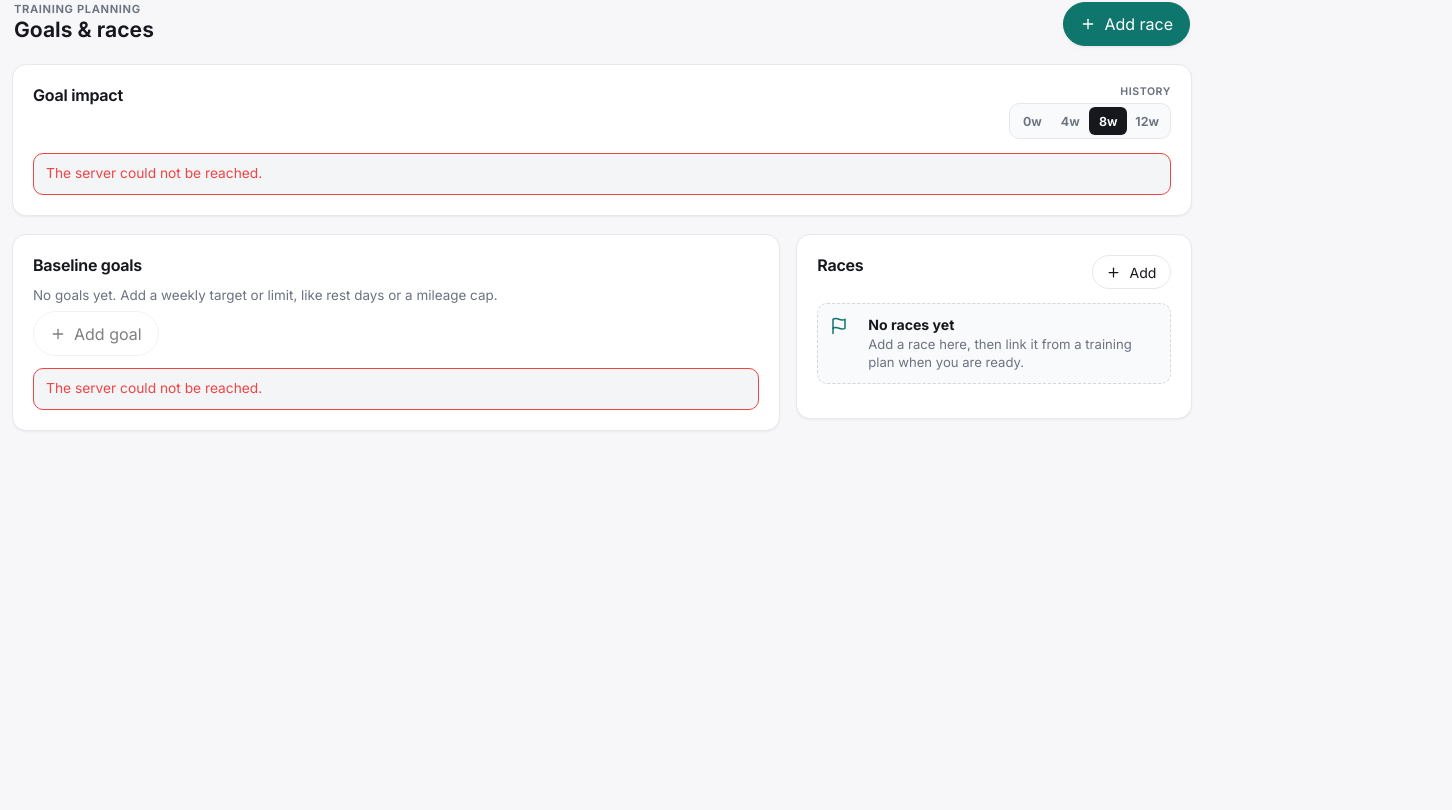
Scenario: GoalsView race management › creates a race without leaving Goals & Races
The image size is (1452, 810).
Expected: the text "No races yet" is shown, [868, 316, 954, 333]
Click the button "Add race": (1127, 24) [1063, 2, 1190, 46]
(page scrolled)
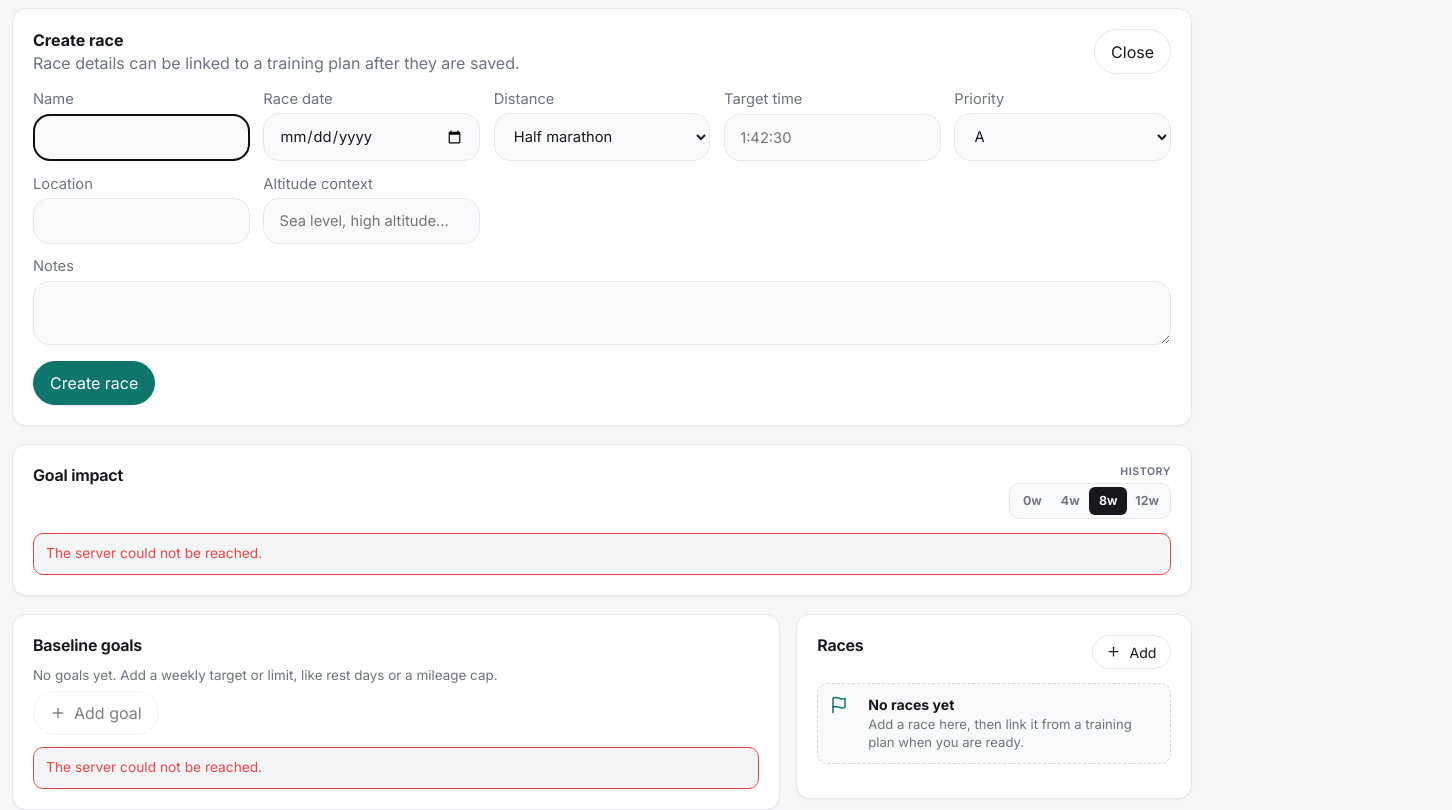
Expected: the button "Create race" is shown, [33, 360, 155, 405]
Expected: the date field labelled "Race date" is empty, [263, 113, 480, 161]
In the field labelled "Name": (141, 138) [33, 114, 250, 161], type "Boulder Half"
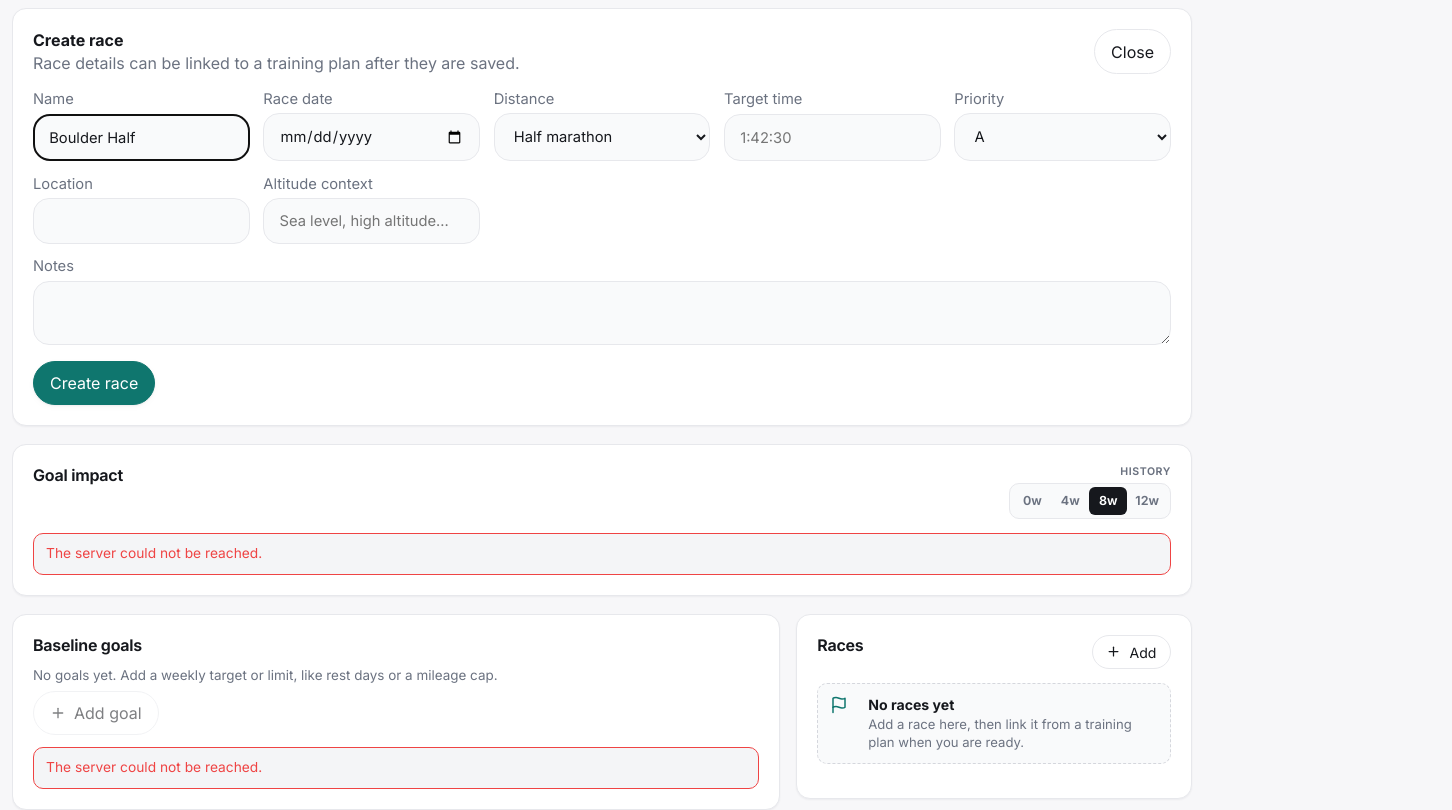
In the date field labelled "Race date": (372, 137) [263, 113, 480, 161], type "2026-10-04"
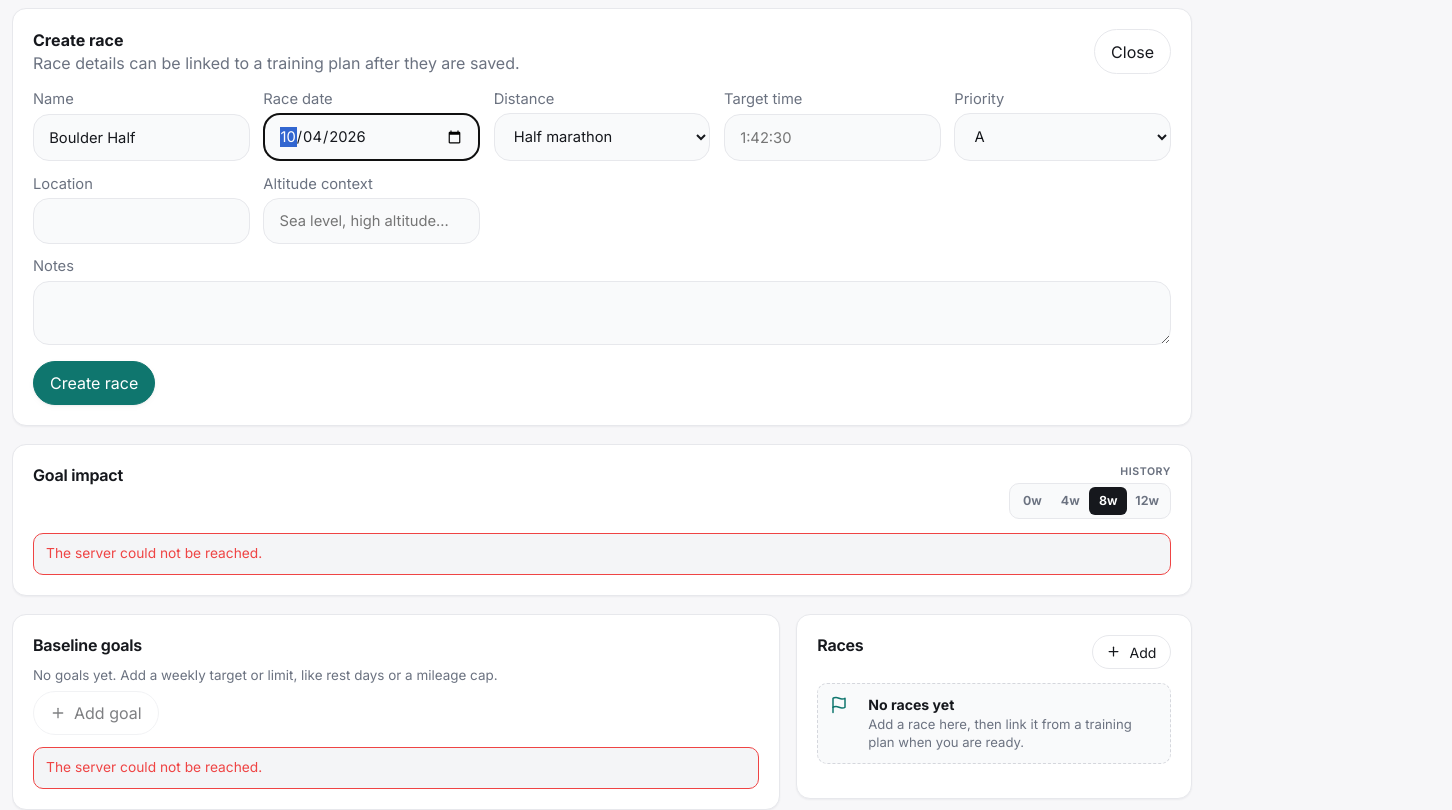
In the field labelled "Target time": (832, 138) [724, 114, 941, 161], type "1:40:00"
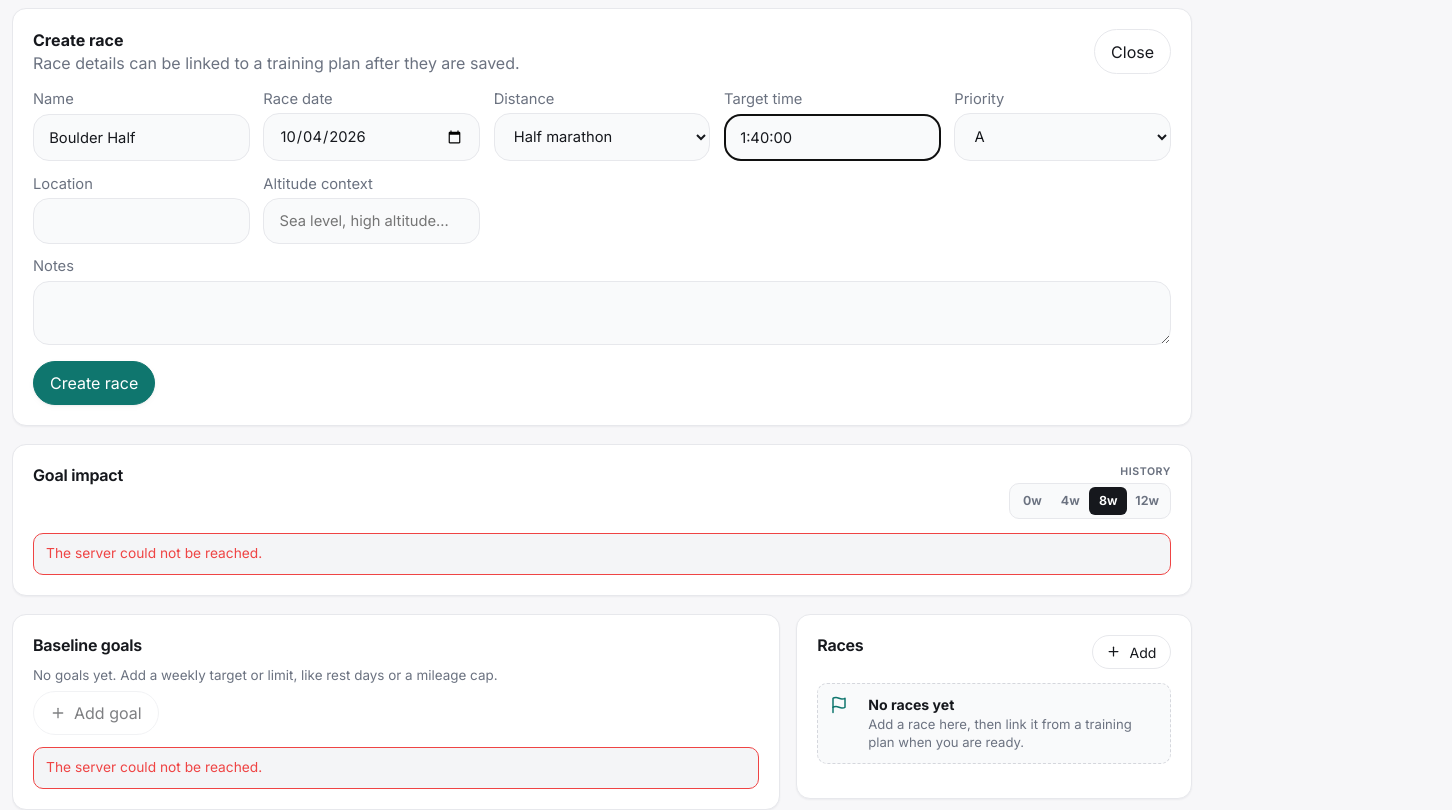
Click the button "Create race": (94, 383) [33, 360, 155, 405]
(page scrolled)
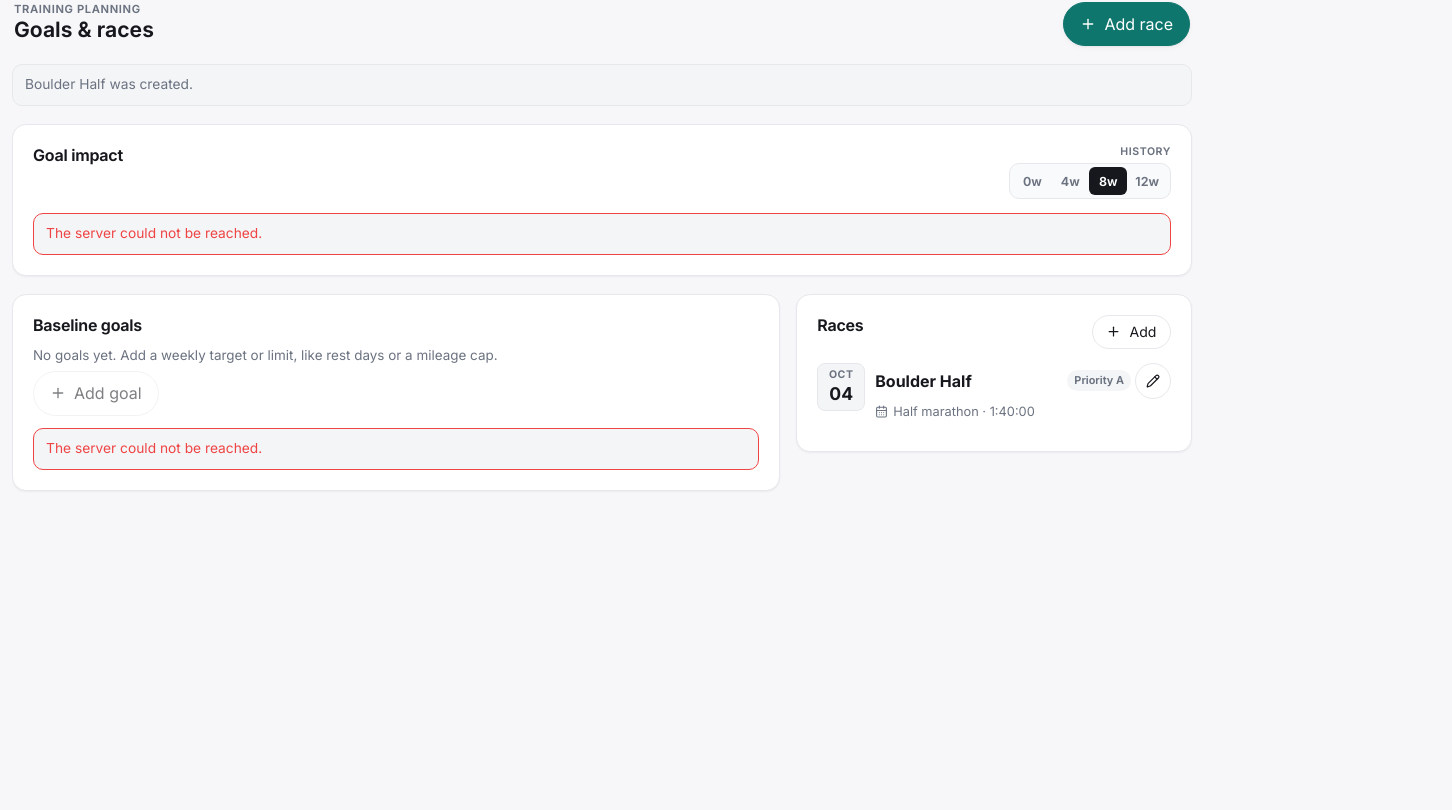
Expected: the heading "Goals & races" is shown, [14, 18, 154, 43]
Expected: the text "Boulder Half was created." is shown, [12, 64, 1192, 106]
Expected: the text "Boulder Half" is shown, [875, 371, 972, 391]
